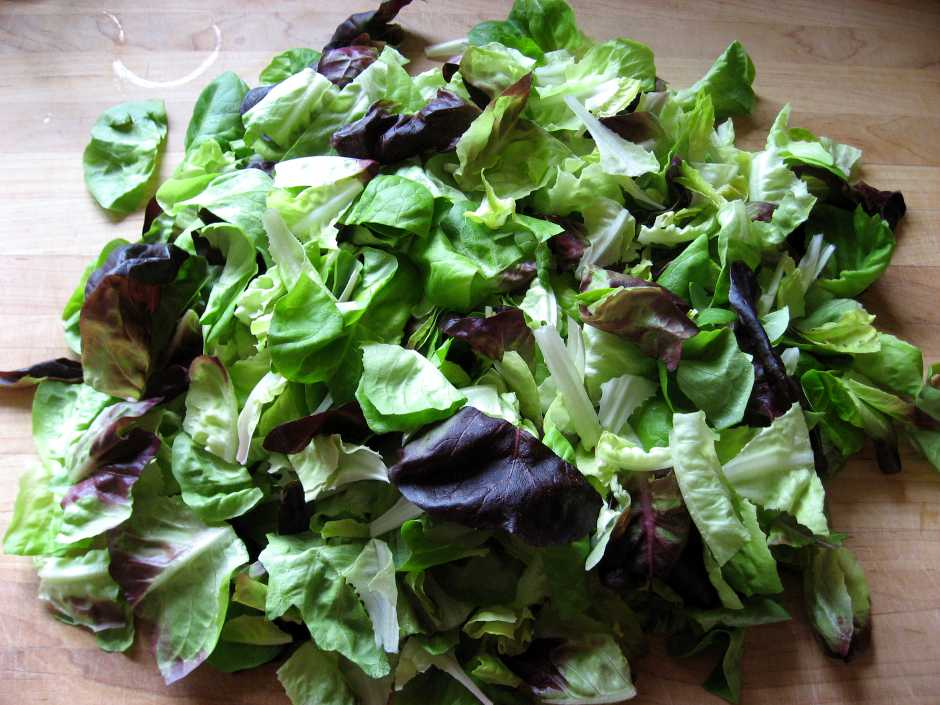chopped lettuce: (66, 58, 839, 676)
